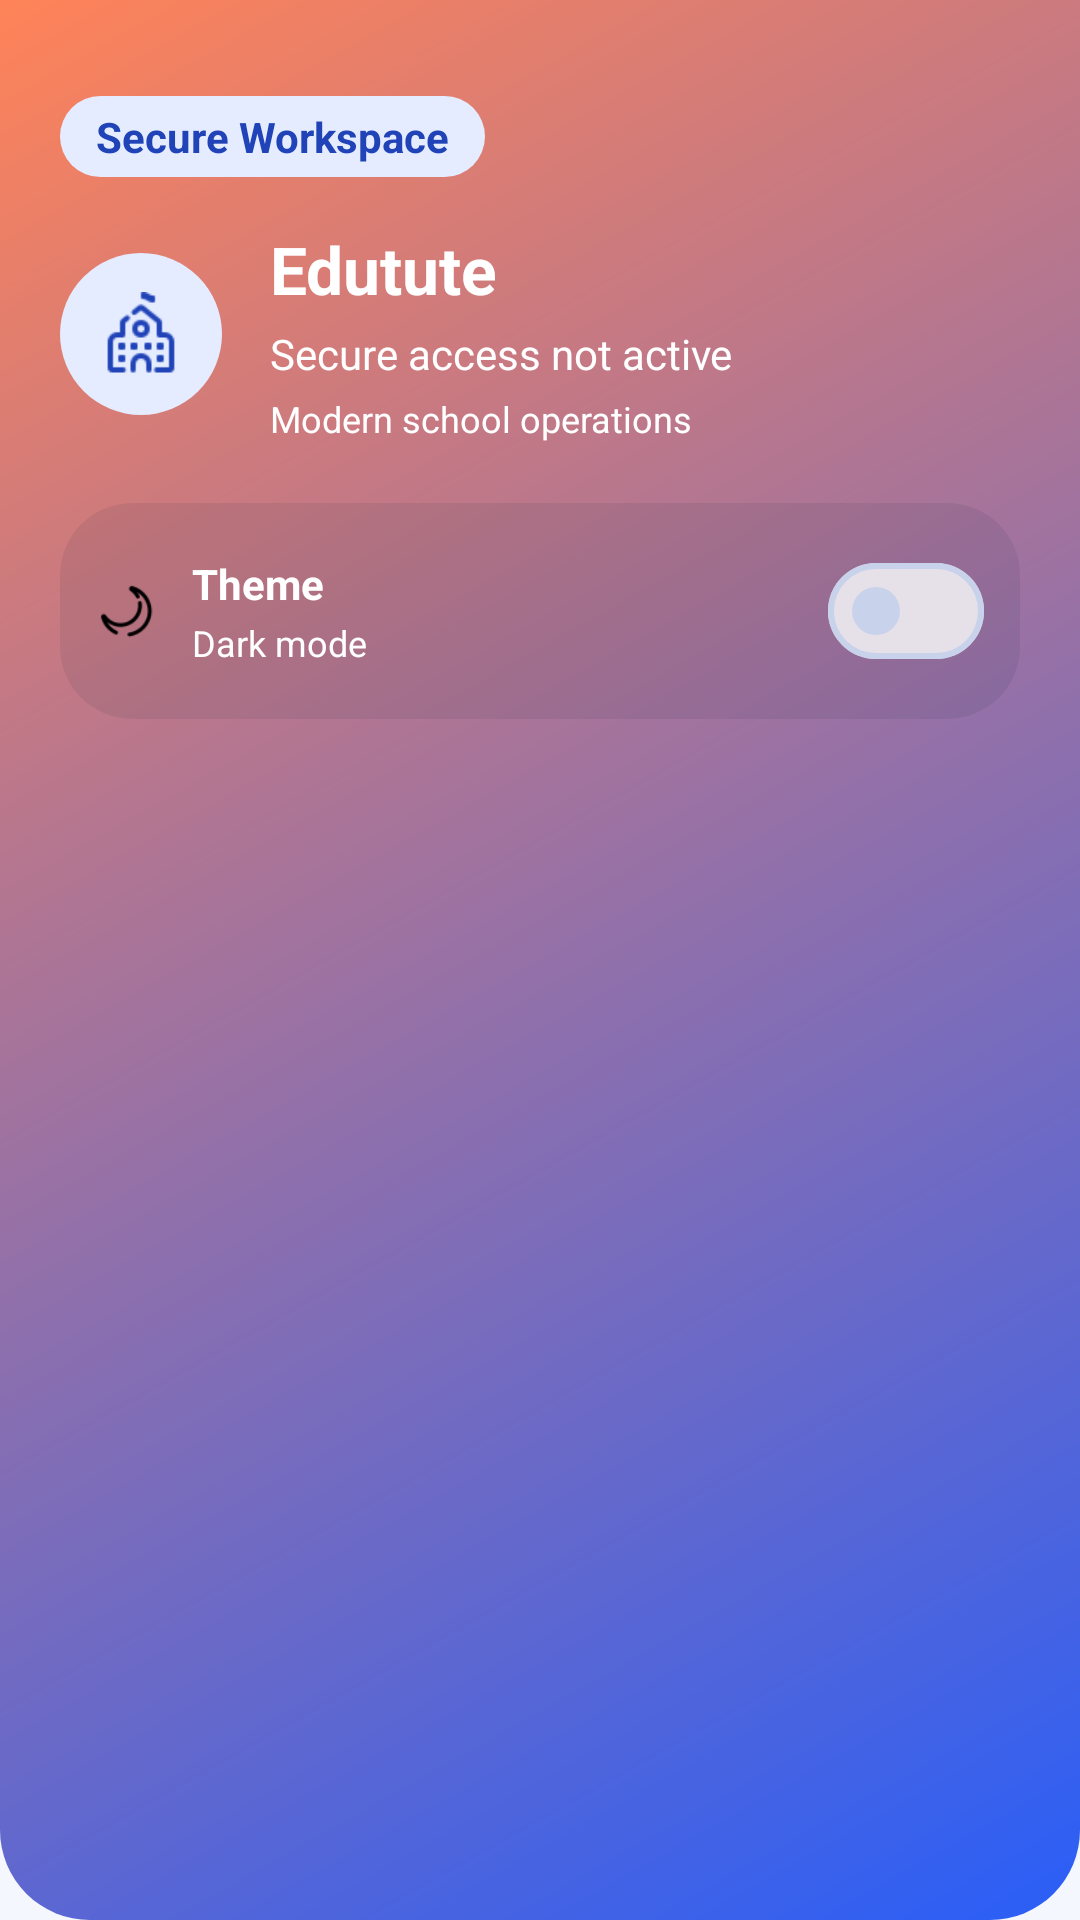

Locate icon controls on the screen. Image size 1080w x 1920h, boxes as box(x1, y1, x2, y2).
institution: box(107, 292, 175, 373)
